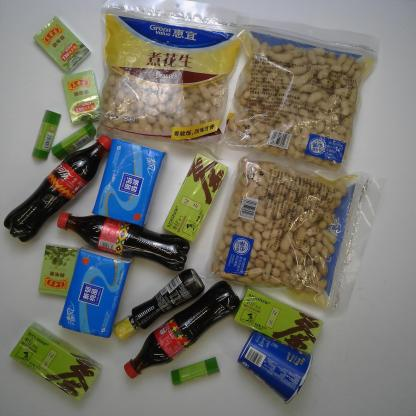Candy: (31, 15, 92, 75), (61, 70, 105, 124), (38, 243, 80, 298)
Dessert: (236, 328, 314, 404)
Dried Food: (196, 153, 387, 319), (202, 15, 384, 181), (93, 0, 259, 161)
Drink: (3, 133, 113, 243), (123, 280, 242, 380), (56, 210, 190, 272)
Instant Drink: (9, 322, 102, 402), (233, 285, 324, 355), (161, 153, 229, 243)
Seasoner: (114, 268, 206, 342)
Stationery: (51, 122, 97, 161), (31, 110, 62, 160), (170, 356, 220, 386)
Tissue: (58, 246, 134, 338), (92, 137, 167, 227)
